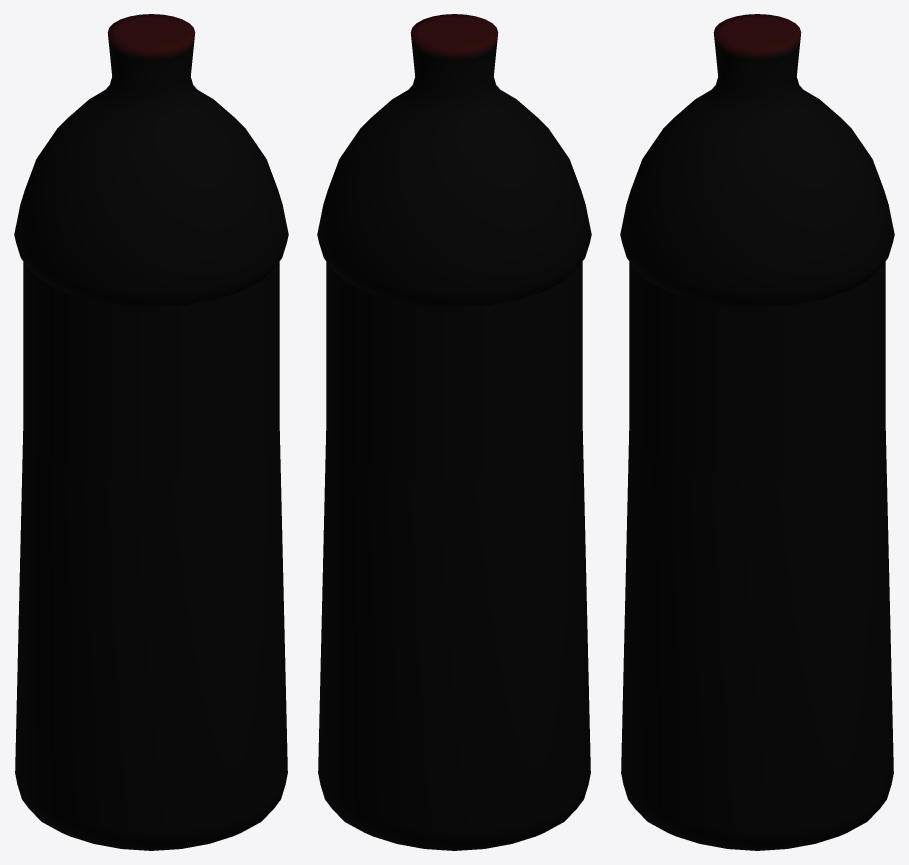
Rendered from PlasticBottle_WaterFull.fbx.
3 views of the same model, side by side, from view 1: azimuth 30°, elevation 25°; view 2: azimuth 150°, elevation 25°; view 3: azimuth 270°, elevation 25° (orthographic).
Visible parts, largest first — view 1: Circle.005; view 2: Circle.005; view 3: Circle.005.
Boxes of the visible parts, x1=… form: Circle.005: x1=14, y1=14, x2=288, y2=850; Circle.005: x1=317, y1=14, x2=591, y2=850; Circle.005: x1=620, y1=14, x2=894, y2=850.
Size of the model in its own units: 0.5233 by 1.62 by 0.5233.
